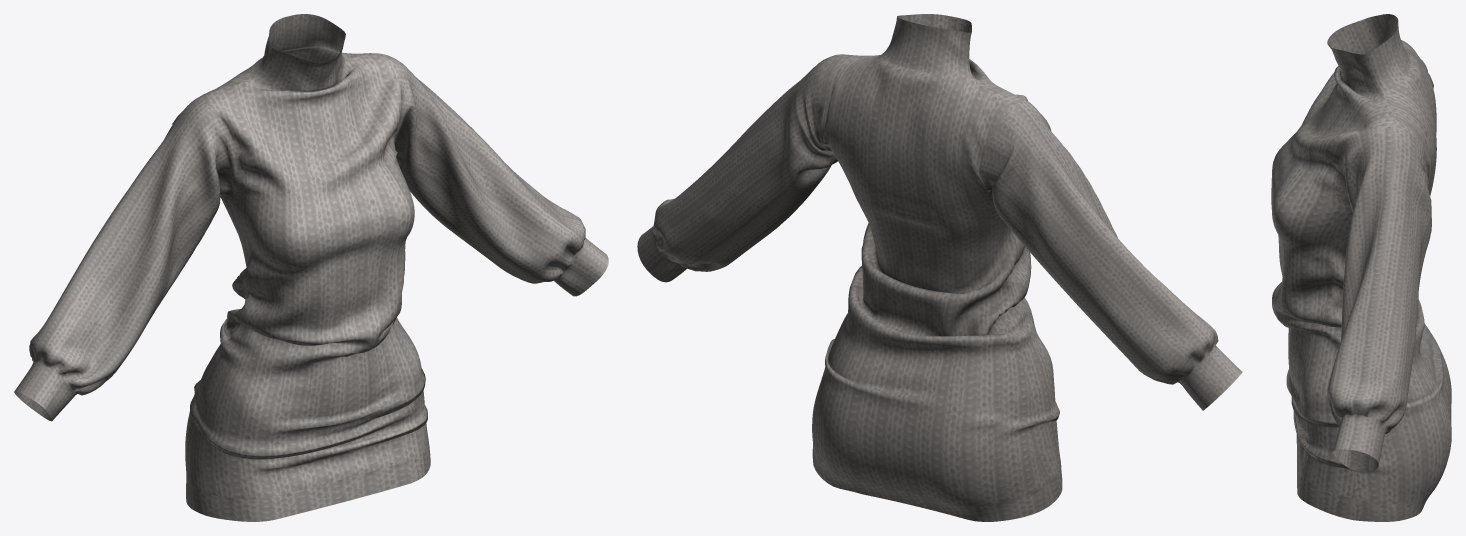
3 views of the same model, side by side, from view 1: azimuth 30°, elevation 25°; view 2: azimuth 150°, elevation 25°; view 3: azimuth 270°, elevation 25° (orthographic). The views are drawn at different scales.
Visible parts, largest first — view 1: _3sketch_obj_cleaner_materialmerger_gles; view 2: _3sketch_obj_cleaner_materialmerger_gles; view 3: _3sketch_obj_cleaner_materialmerger_gles.
Boxes of the visible parts, bbox=[...] form: _3sketch_obj_cleaner_materialmerger_gles: bbox=[14, 14, 608, 521]; _3sketch_obj_cleaner_materialmerger_gles: bbox=[637, 14, 1242, 521]; _3sketch_obj_cleaner_materialmerger_gles: bbox=[1271, 14, 1451, 521].
Size of the model in its own units: 3.97 by 3 by 1.08.
2 materials, 2 textured.
